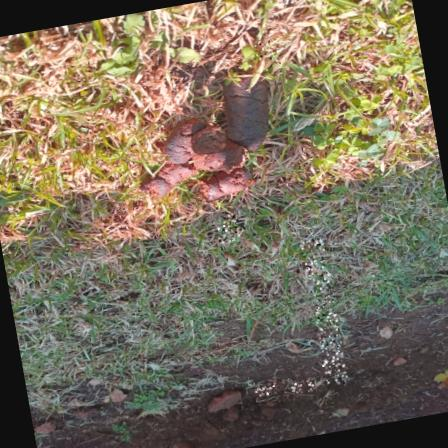dog-poop: (132, 76, 280, 210)
